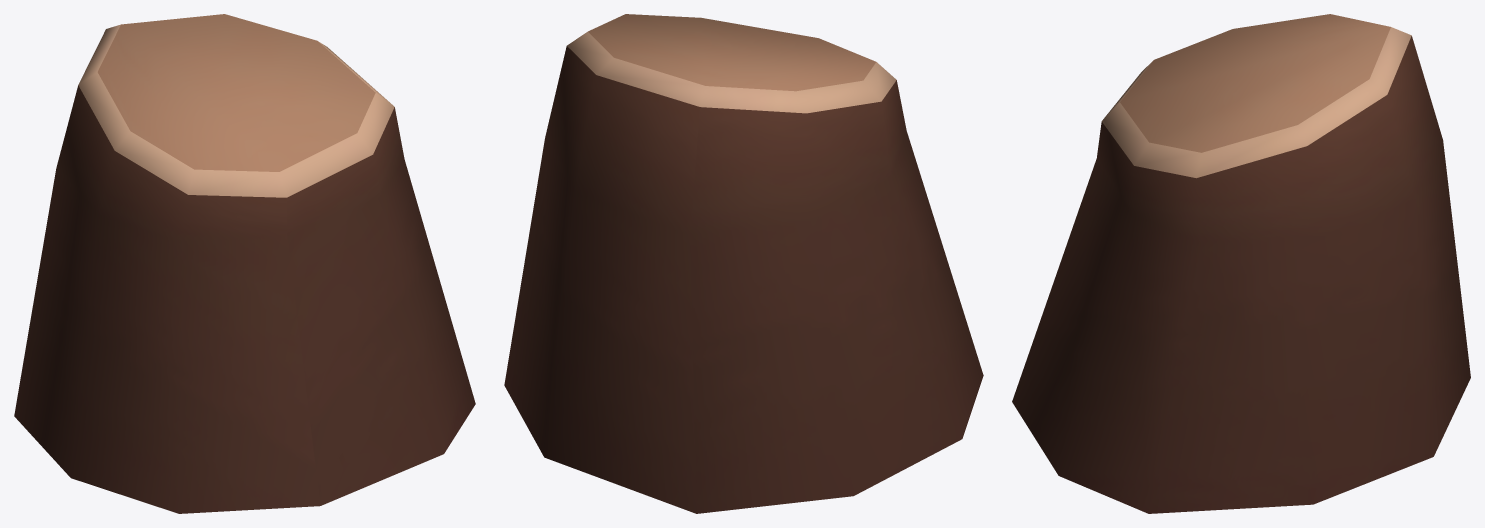
File: Env_Nature_Trunk_1.fbx
3 views of the same model, side by side, from view 1: azimuth 30°, elevation 25°; view 2: azimuth 150°, elevation 25°; view 3: azimuth 270°, elevation 25° (orthographic). The views are drawn at different scales.
Parts seen in each view (by area): view 1: Trunk_1_01; view 2: Trunk_1_01; view 3: Trunk_1_01.
Boxes of the visible parts, x1,y1,x2,y2 form: Trunk_1_01: (14,14,475,513); Trunk_1_01: (504,14,983,513); Trunk_1_01: (1012,14,1470,513).
Size of the model in its own units: 62.35 by 55.29 by 62.8.
